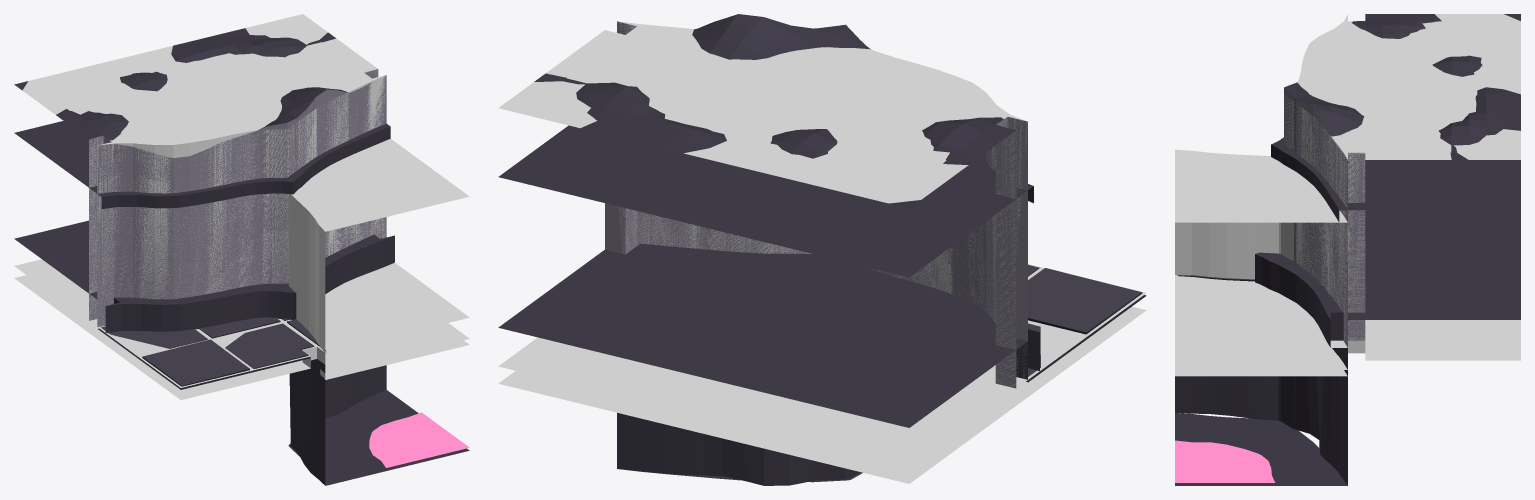
File: Tile_WWLF.fbx
3 views of the same model, side by side, from view 1: azimuth 30°, elevation 25°; view 2: azimuth 150°, elevation 25°; view 3: azimuth 270°, elevation 25° (orthographic). The views are drawn at different scales.
Parts seen in each view (by area): view 1: Tile_WWLF, Tile_WWLF_ColWall, Tile_WWLF_ColCrackBlocker, Tile_WWLF_ColGround, Tile_WWLF_ColCrackSurface; view 2: Tile_WWLF, Tile_WWLF_ColWall, Tile_WWLF_ColGround, Tile_WWLF_ColCrackBlocker; view 3: Tile_WWLF, Tile_WWLF_ColWall, Tile_WWLF_ColCrackBlocker, Tile_WWLF_ColGround, Tile_WWLF_ColCrackSurface.
Boxes of the visible parts, x1,y1,x2,y2 form: Tile_WWLF: [14, 28, 469, 485]; Tile_WWLF_ColWall: [15, 14, 385, 325]; Tile_WWLF_ColCrackBlocker: [288, 138, 469, 352]; Tile_WWLF_ColGround: [14, 259, 325, 399]; Tile_WWLF_ColCrackSurface: [320, 323, 469, 379]; Tile_WWLF: [498, 14, 1146, 485]; Tile_WWLF_ColWall: [498, 21, 1027, 465]; Tile_WWLF_ColGround: [498, 264, 1146, 483]; Tile_WWLF_ColCrackBlocker: [637, 70, 940, 253]; Tile_WWLF: [1175, 14, 1520, 485]; Tile_WWLF_ColWall: [1284, 14, 1520, 347]; Tile_WWLF_ColCrackBlocker: [1175, 149, 1347, 347]; Tile_WWLF_ColGround: [1348, 320, 1520, 360]; Tile_WWLF_ColCrackSurface: [1175, 348, 1347, 376].
Size of the model in its own units: 5 by 5.42 by 5.
